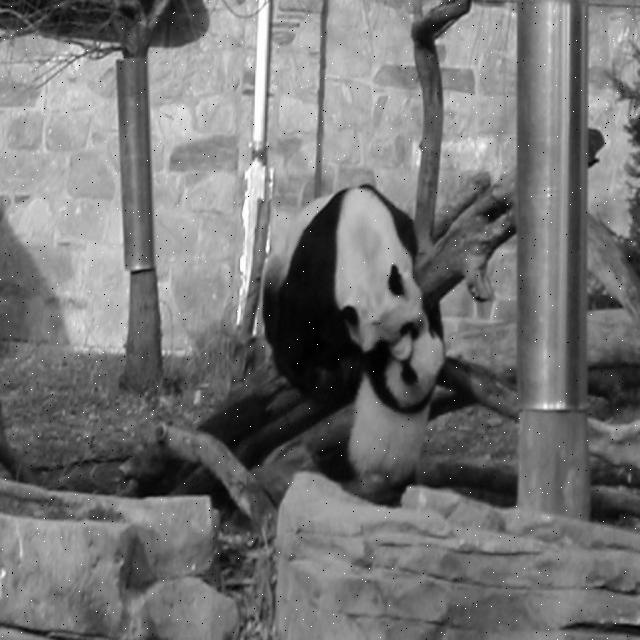panda: (257, 182, 437, 397), (349, 296, 449, 503)
